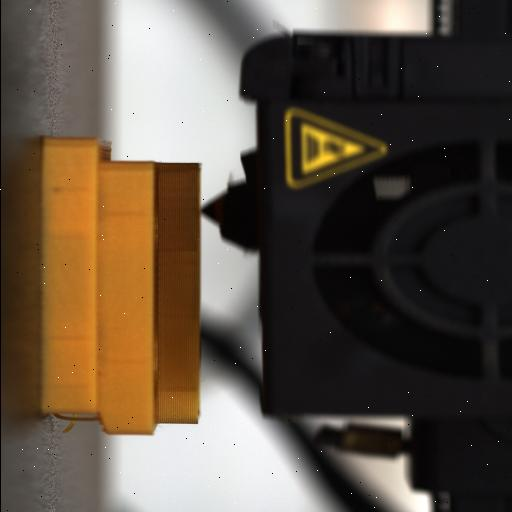layer_shift: (88, 134, 114, 436)
